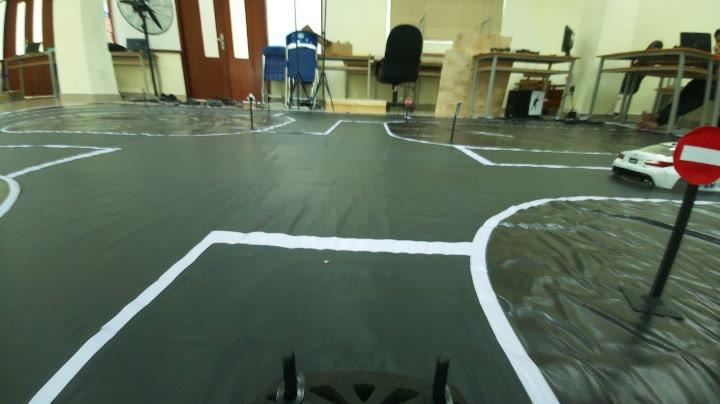no_entry: (665, 127, 720, 183)
